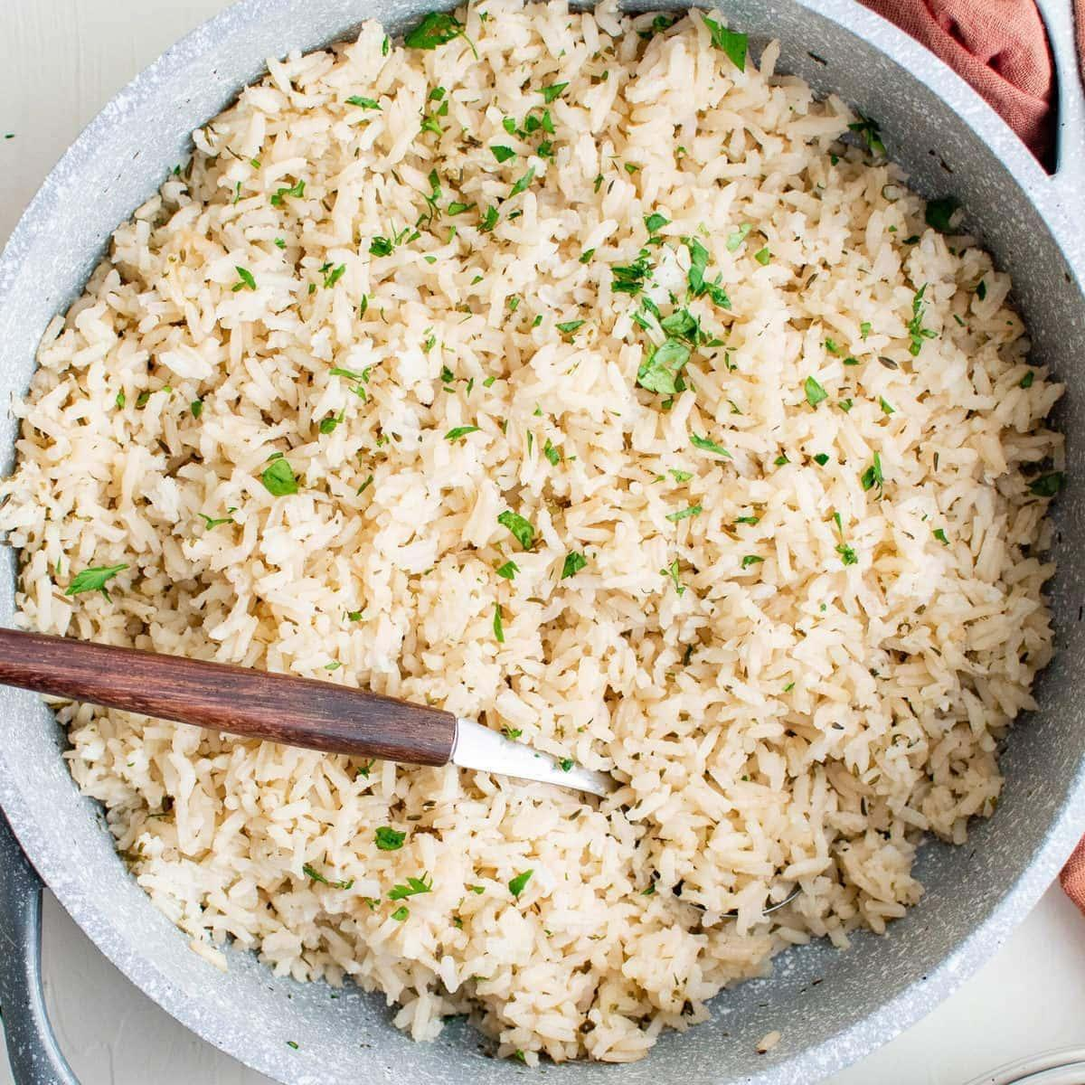rice: (8, 5, 1056, 1044)
